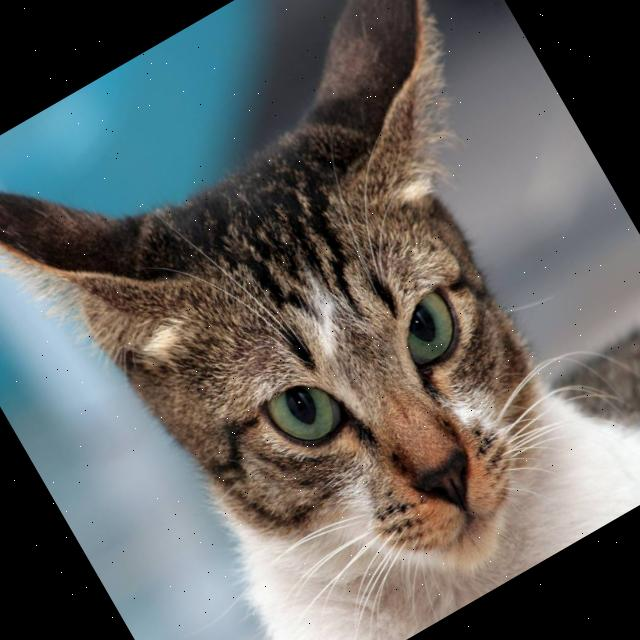cat-eye-normal: (242, 349, 372, 480), (370, 268, 492, 397)
